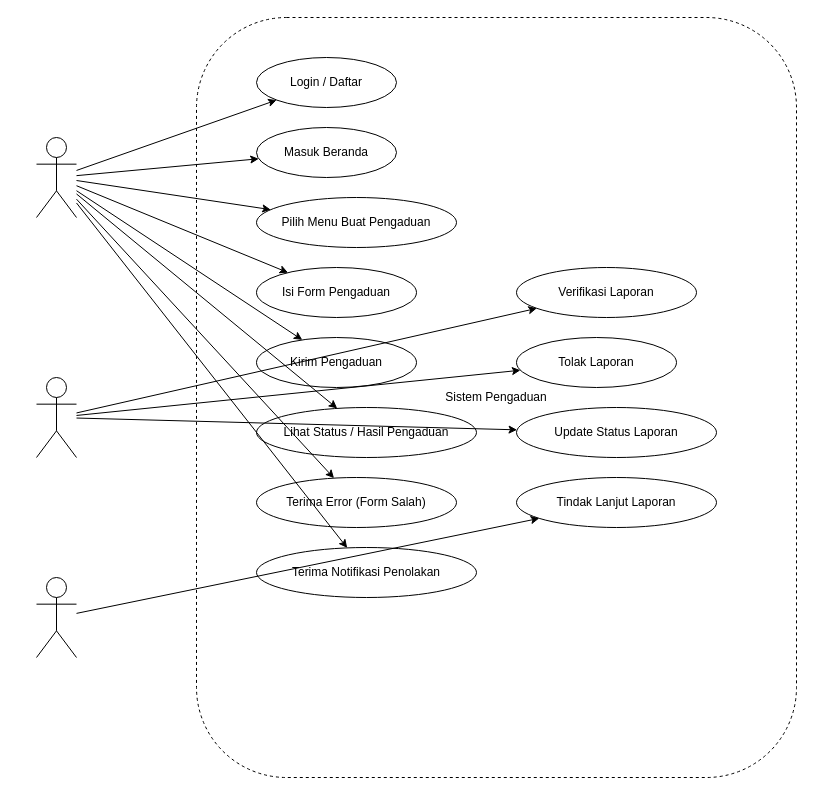
The diagram is 815 pixels wide and 795 high, and some of its shapes have lost their labels. Each missing label, with the centre of its shape:
"Admin" belongs at pixel 56 417.
"Instansi Terkait" belongs at pixel 56 617.
"Masyarakat" belongs at pixel 56 177.
